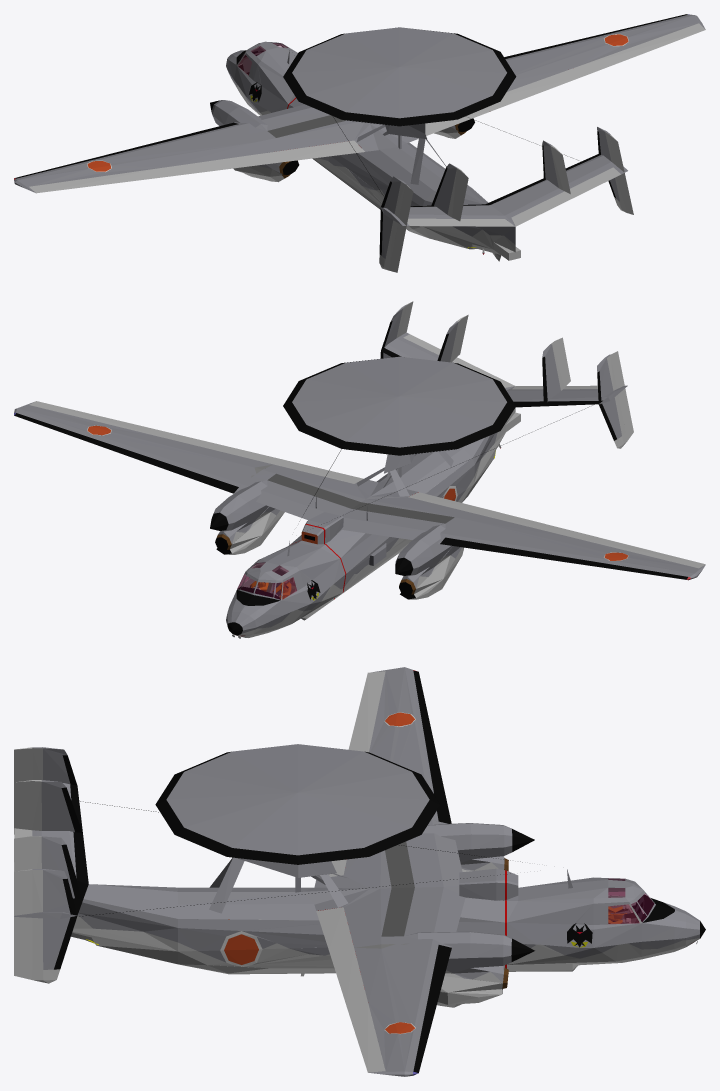
Rendered from E2CNP.obj.
3 renders of one model, top to bottom at view 1: azimuth 30°, elevation 25°; view 2: azimuth 150°, elevation 25°; view 3: azimuth 270°, elevation 25°, orthographic. The views are drawn at different scales.
Visible parts, largest first — view 1: ShapeIndexedFaceSet_ShapeIndexedFaceSet.001, ShapeIndexedFaceSet.158_ShapeIndexedFaceSet.159, ShapeIndexedFaceSet.181_ShapeIndexedFaceSet.182, ShapeIndexedFaceSet.193_ShapeIndexedFaceSet.194, ShapeIndexedFaceSet.001_ShapeIndexedFaceSet.002, ShapeIndexedFaceSet.159_ShapeIndexedFaceSet.160, ShapeIndexedFaceSet.200_ShapeIndexedFaceSet.201, ShapeIndexedFaceSet.188_ShapeIndexedFaceSet.189, ShapeIndexedFaceSet.189_ShapeIndexedFaceSet.190, ShapeIndexedFaceSet.175_ShapeIndexedFaceSet.176, ShapeIndexedFaceSet.201_ShapeIndexedFaceSet.202, ShapeIndexedFaceSet.126_ShapeIndexedFaceSet.127 (+12 smaller); view 2: ShapeIndexedFaceSet_ShapeIndexedFaceSet.001, ShapeIndexedFaceSet.158_ShapeIndexedFaceSet.159, ShapeIndexedFaceSet.193_ShapeIndexedFaceSet.194, ShapeIndexedFaceSet.181_ShapeIndexedFaceSet.182, ShapeIndexedFaceSet.001_ShapeIndexedFaceSet.002, ShapeIndexedFaceSet.159_ShapeIndexedFaceSet.160, ShapeIndexedFaceSet.003_ShapeIndexedFaceSet.004, ShapeIndexedFaceSet.094_ShapeIndexedFaceSet.095, ShapeIndexedFaceSet.126_ShapeIndexedFaceSet.127, ShapeIndexedFaceSet.007_ShapeIndexedFaceSet.008, ShapeIndexedFaceSet.195_ShapeIndexedFaceSet.196, ShapeIndexedFaceSet.183_ShapeIndexedFaceSet.184 (+12 smaller); view 3: ShapeIndexedFaceSet_ShapeIndexedFaceSet.001, ShapeIndexedFaceSet.158_ShapeIndexedFaceSet.159, ShapeIndexedFaceSet.001_ShapeIndexedFaceSet.002, ShapeIndexedFaceSet.193_ShapeIndexedFaceSet.194, ShapeIndexedFaceSet.181_ShapeIndexedFaceSet.182, ShapeIndexedFaceSet.159_ShapeIndexedFaceSet.160, ShapeIndexedFaceSet.094_ShapeIndexedFaceSet.095, ShapeIndexedFaceSet.003_ShapeIndexedFaceSet.004, ShapeIndexedFaceSet.126_ShapeIndexedFaceSet.127, ShapeIndexedFaceSet.007_ShapeIndexedFaceSet.008, ShapeIndexedFaceSet.176_ShapeIndexedFaceSet.177, ShapeIndexedFaceSet.188_ShapeIndexedFaceSet.189 (+12 smaller).
Part boxes in pixels (<box>): ShapeIndexedFaceSet_ShapeIndexedFaceSet.001: <box>226,41,627,258</box>; ShapeIndexedFaceSet.158_ShapeIndexedFaceSet.159: <box>292,27,506,118</box>; ShapeIndexedFaceSet.181_ShapeIndexedFaceSet.182: <box>14,124,272,192</box>; ShapeIndexedFaceSet.193_ShapeIndexedFaceSet.194: <box>505,14,704,91</box>; ShapeIndexedFaceSet.001_ShapeIndexedFaceSet.002: <box>230,77,626,270</box>; ShapeIndexedFaceSet.159_ShapeIndexedFaceSet.160: <box>283,33,515,125</box>; ShapeIndexedFaceSet.200_ShapeIndexedFaceSet.201: <box>578,23,705,75</box>; ShapeIndexedFaceSet.188_ShapeIndexedFaceSet.189: <box>29,167,172,193</box>; ShapeIndexedFaceSet.189_ShapeIndexedFaceSet.190: <box>164,152,283,175</box>; ShapeIndexedFaceSet.175_ShapeIndexedFaceSet.176: <box>511,167,620,226</box>; ShapeIndexedFaceSet.201_ShapeIndexedFaceSet.202: <box>486,67,585,111</box>; ShapeIndexedFaceSet.126_ShapeIndexedFaceSet.127: <box>211,100,281,172</box>; ShapeIndexedFaceSet_ShapeIndexedFaceSet.001: <box>226,305,627,633</box>; ShapeIndexedFaceSet.158_ShapeIndexedFaceSet.159: <box>292,356,506,447</box>; ShapeIndexedFaceSet.193_ShapeIndexedFaceSet.194: <box>14,402,273,486</box>; ShapeIndexedFaceSet.181_ShapeIndexedFaceSet.182: <box>445,515,705,579</box>; ShapeIndexedFaceSet.001_ShapeIndexedFaceSet.002: <box>236,305,627,637</box>; ShapeIndexedFaceSet.159_ShapeIndexedFaceSet.160: <box>283,363,515,455</box>; ShapeIndexedFaceSet.003_ShapeIndexedFaceSet.004: <box>227,321,616,635</box>; ShapeIndexedFaceSet.094_ShapeIndexedFaceSet.095: <box>212,480,275,543</box>; ShapeIndexedFaceSet.126_ShapeIndexedFaceSet.127: <box>395,524,460,588</box>; ShapeIndexedFaceSet.007_ShapeIndexedFaceSet.008: <box>267,473,454,523</box>; ShapeIndexedFaceSet.195_ShapeIndexedFaceSet.196: <box>14,413,238,493</box>; ShapeIndexedFaceSet.183_ShapeIndexedFaceSet.184: <box>440,537,687,579</box>; ShapeIndexedFaceSet_ShapeIndexedFaceSet.001: <box>14,747,699,969</box>; ShapeIndexedFaceSet.158_ShapeIndexedFaceSet.159: <box>166,744,429,855</box>; ShapeIndexedFaceSet.001_ShapeIndexedFaceSet.002: <box>32,748,699,983</box>; ShapeIndexedFaceSet.193_ShapeIndexedFaceSet.194: <box>354,943,438,1076</box>; ShapeIndexedFaceSet.181_ShapeIndexedFaceSet.182: <box>369,667,438,821</box>; ShapeIndexedFaceSet.159_ShapeIndexedFaceSet.160: <box>155,751,440,864</box>; ShapeIndexedFaceSet.094_ShapeIndexedFaceSet.095: <box>404,931,511,982</box>; ShapeIndexedFaceSet.003_ShapeIndexedFaceSet.004: <box>54,755,705,969</box>; ShapeIndexedFaceSet.126_ShapeIndexedFaceSet.127: <box>422,823,512,870</box>; ShapeIndexedFaceSet.007_ShapeIndexedFaceSet.008: <box>381,841,414,936</box>; ShapeIndexedFaceSet.176_ShapeIndexedFaceSet.177: <box>14,869,32,979</box>; ShapeIndexedFaceSet.188_ShapeIndexedFaceSet.189: <box>348,671,385,752</box>.
Bounding box in the file's own units: 247 × 52 × 178.
